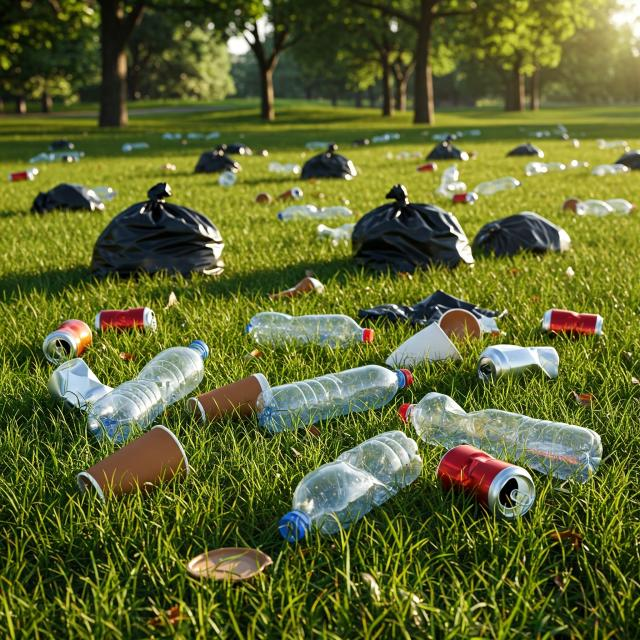aluminum: (435, 441, 539, 521), (40, 318, 94, 362), (93, 308, 161, 342), (544, 307, 604, 344)
paper: (76, 422, 195, 508), (188, 543, 275, 584)
plastic: (397, 390, 605, 482), (278, 428, 425, 542), (86, 339, 212, 441), (255, 362, 416, 434), (246, 309, 377, 351)
